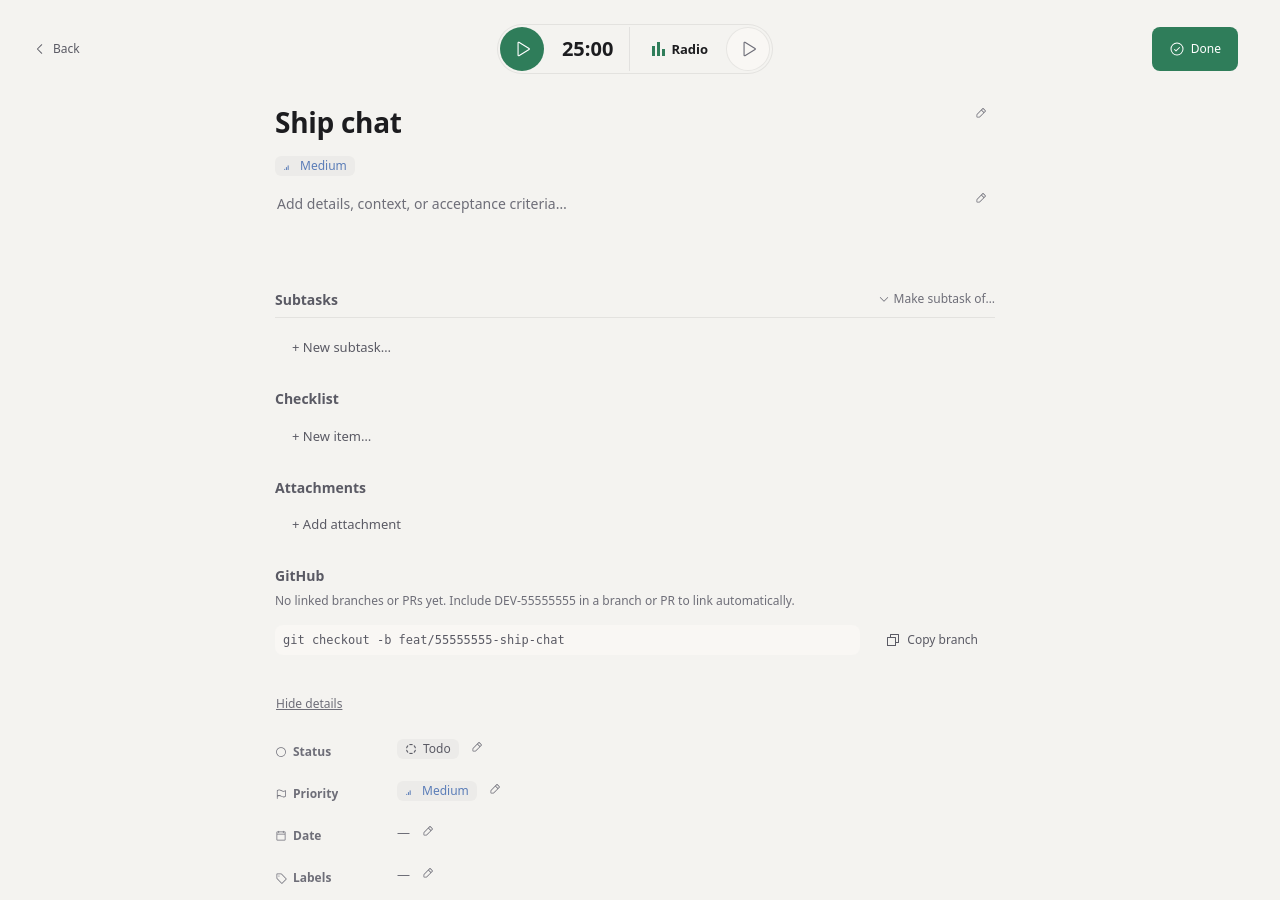
Test: FocusPage › parent picker opens its popup immediately on click
Click the button "Make subtask of…" at (936, 299), box x1=878 y1=290 x2=995 y2=308
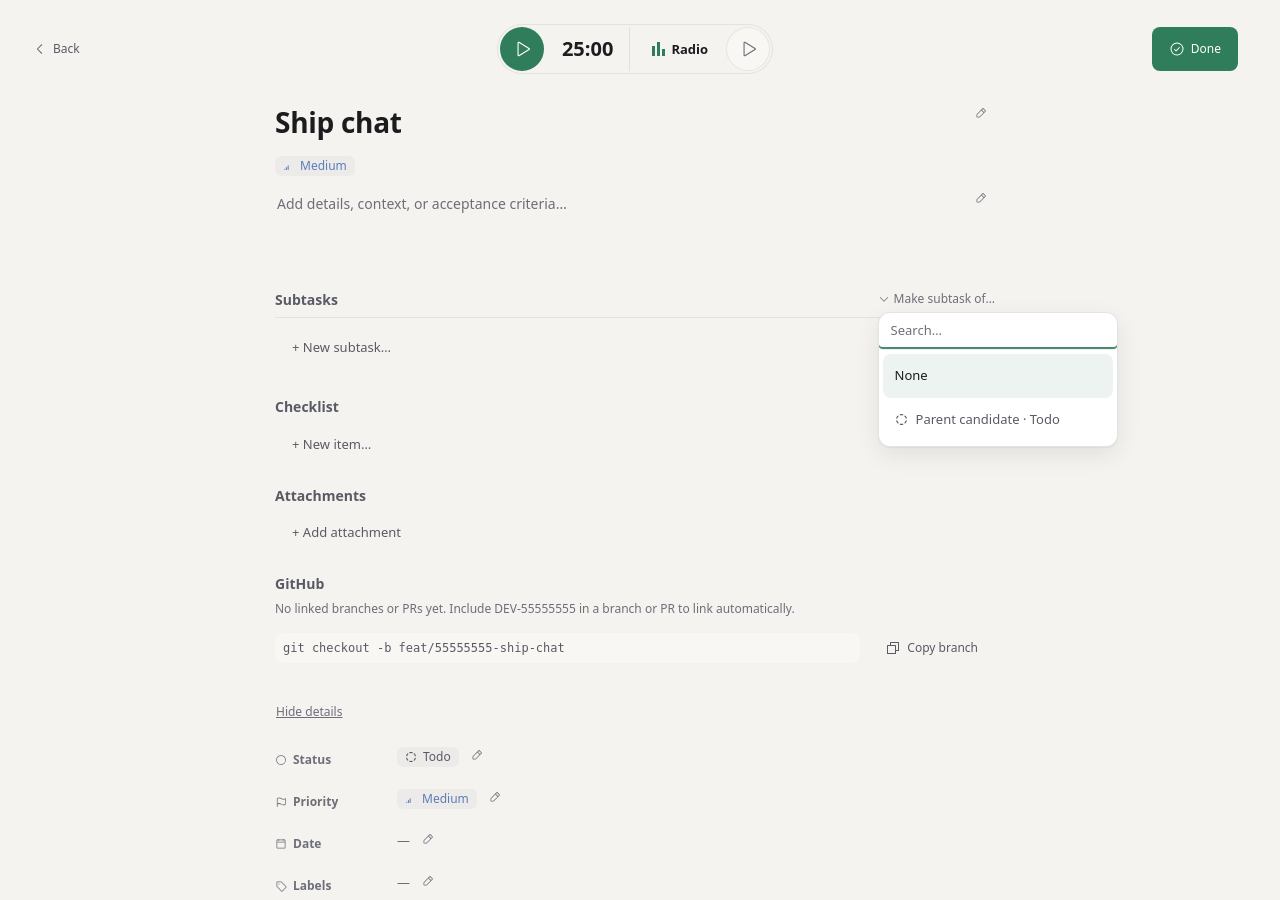
Expected: the list is shown, x1=879 y1=350 x2=1117 y2=446
Expected: the option "Parent candidate · Todo" is shown, x1=883 y1=398 x2=1113 y2=442
